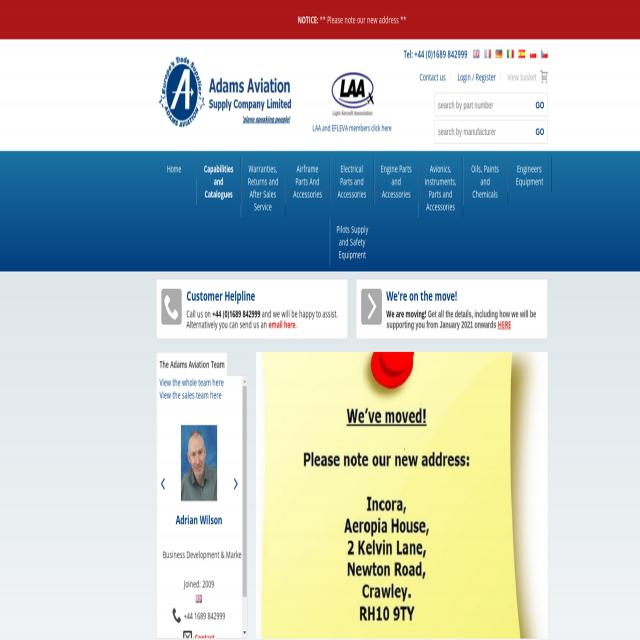button: (156, 56, 303, 134), (320, 51, 384, 118), (181, 424, 218, 502), (241, 157, 285, 217), (419, 157, 463, 217), (285, 157, 330, 205), (197, 157, 241, 205), (330, 157, 374, 205), (374, 157, 418, 205), (463, 157, 507, 205), (330, 218, 374, 265), (507, 157, 552, 192), (152, 157, 196, 180), (162, 288, 182, 325), (361, 289, 382, 324), (243, 386, 246, 597), (158, 467, 169, 502), (230, 469, 241, 501), (534, 95, 546, 114), (534, 122, 546, 141), (242, 626, 247, 640), (507, 50, 514, 58), (541, 50, 548, 58), (242, 377, 248, 386), (519, 50, 525, 58), (530, 50, 536, 58), (473, 50, 479, 58), (485, 50, 491, 58), (496, 50, 502, 58)
field: (436, 95, 533, 114), (436, 122, 533, 141)
